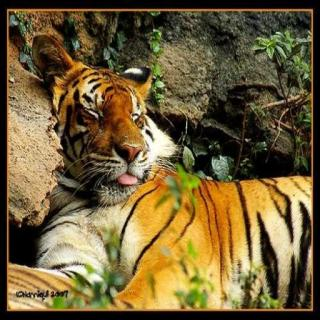Tiger: (7, 32, 310, 301)
